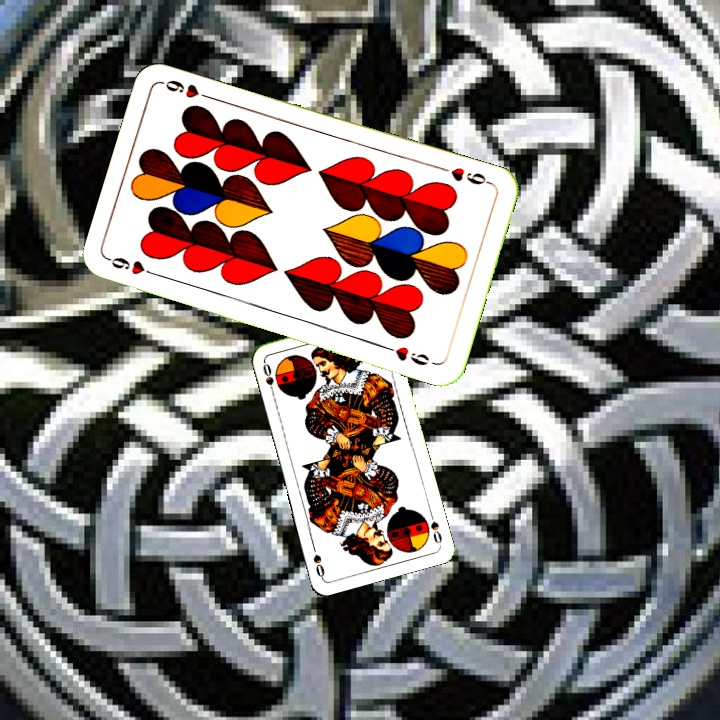H9: (106, 253, 163, 280), (437, 162, 494, 188)
SO: (259, 358, 277, 398), (426, 508, 444, 548)
